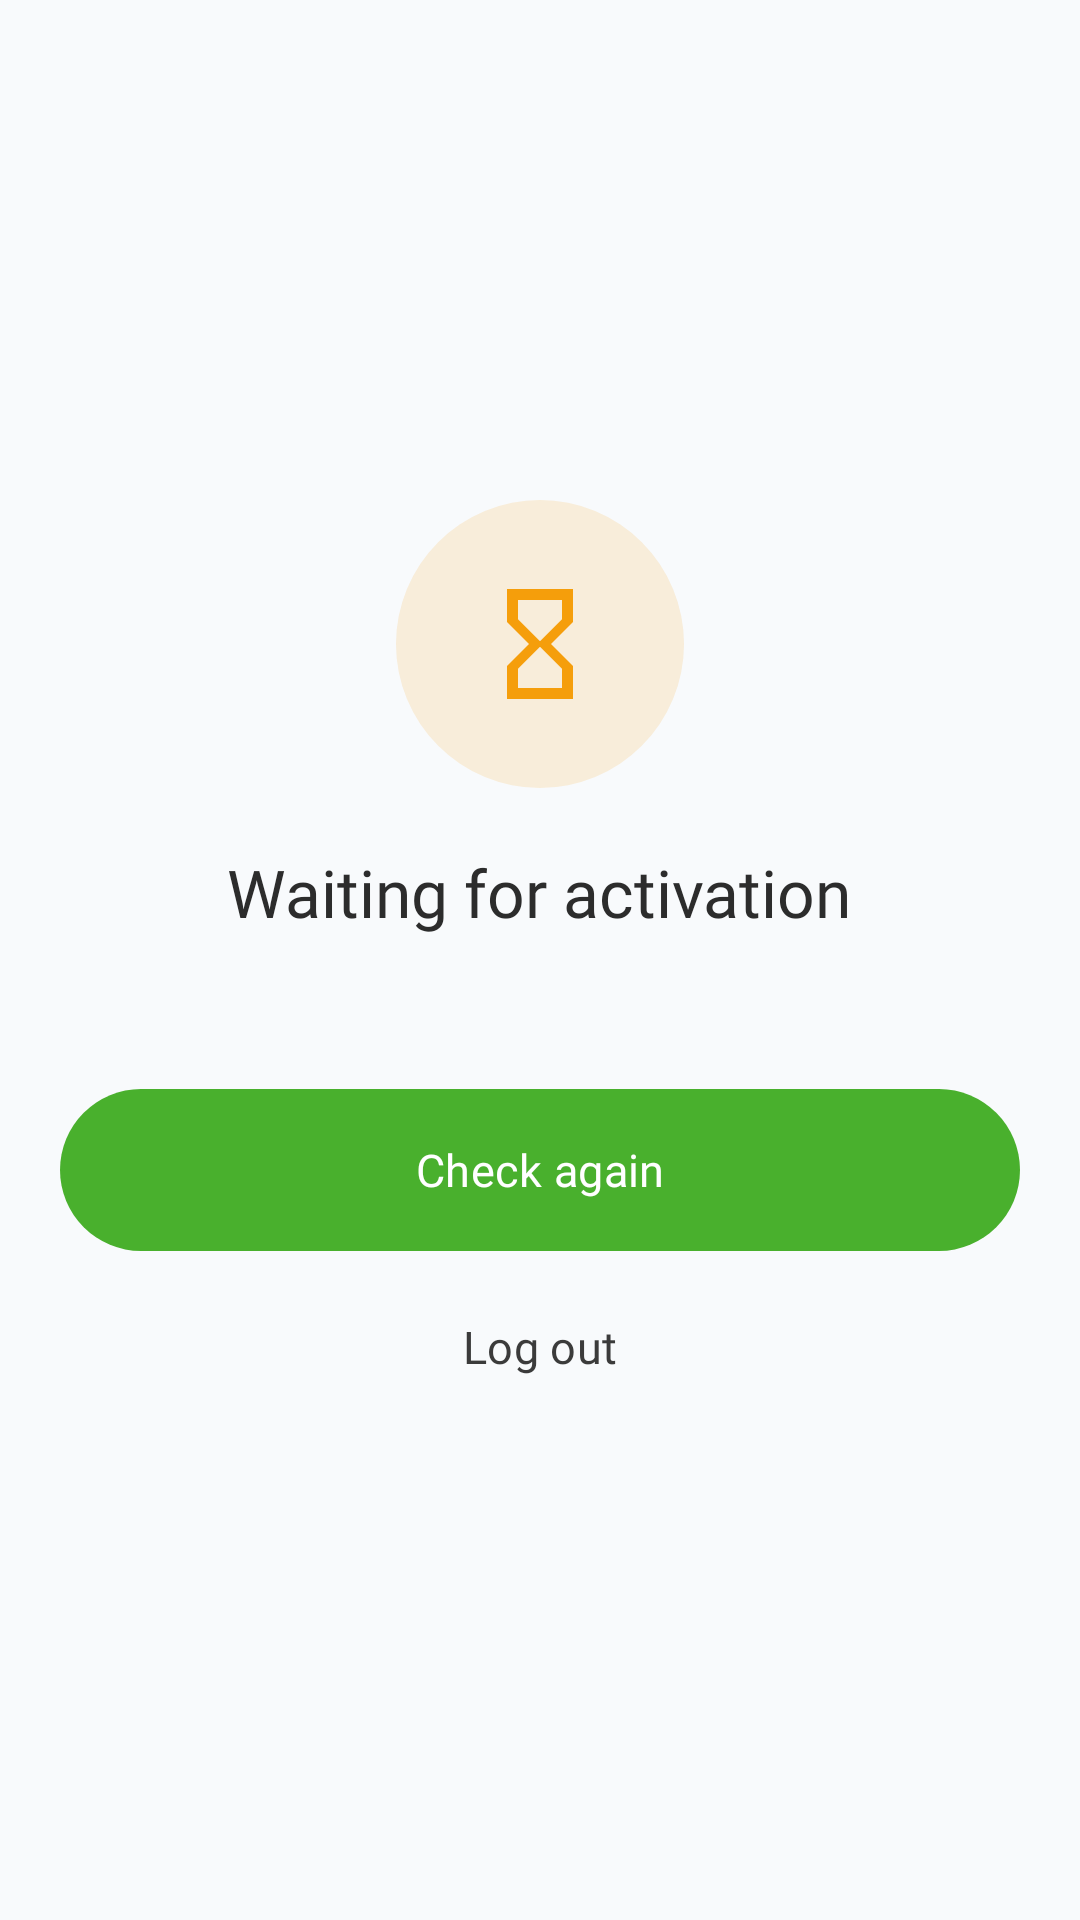

Named icons in this screenshot (1080 x 1920) and their bounding boxes, (x1, y1, x2, y2):
res hourglass: (396, 500, 684, 788)
